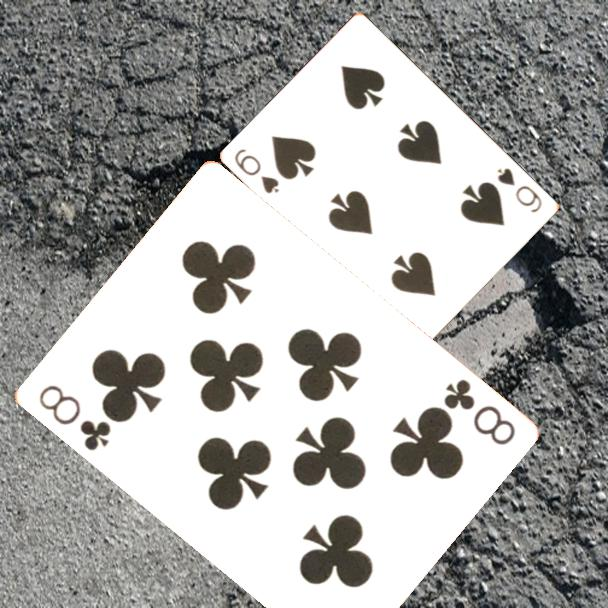c08: (439, 375, 518, 449), (34, 381, 113, 454)
s06: (231, 145, 283, 197), (494, 164, 545, 216)
